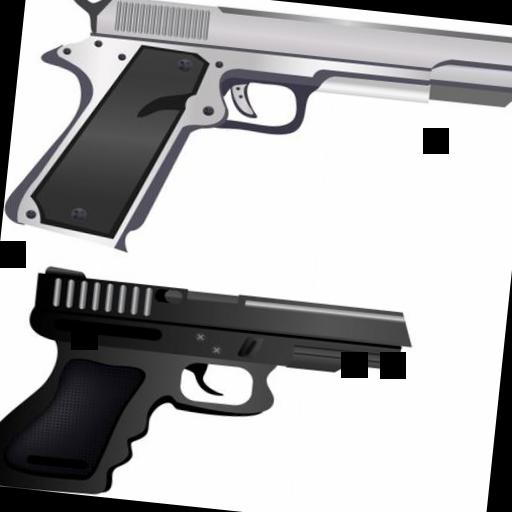Handgun: (4, 0, 512, 285), (0, 260, 410, 512)
